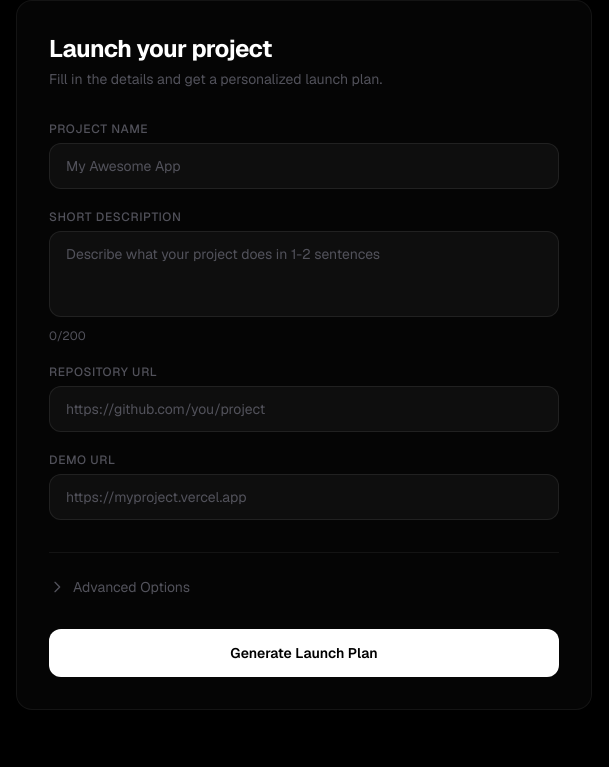
Test: ProjectForm › validates URL format for repo and demo URLs
This screenshot has width=609, height=767.
Type "Test" into the field labelled "Project Name". click: (304, 166)
box: [49,143,559,189]
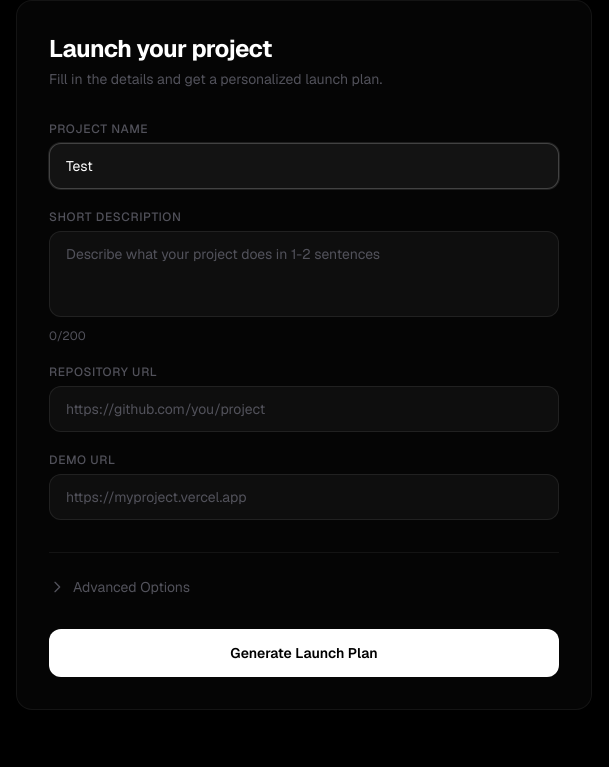
Type "A test project" into the text box labelled "Short Description". click: (304, 274)
box: [49,231,559,317]
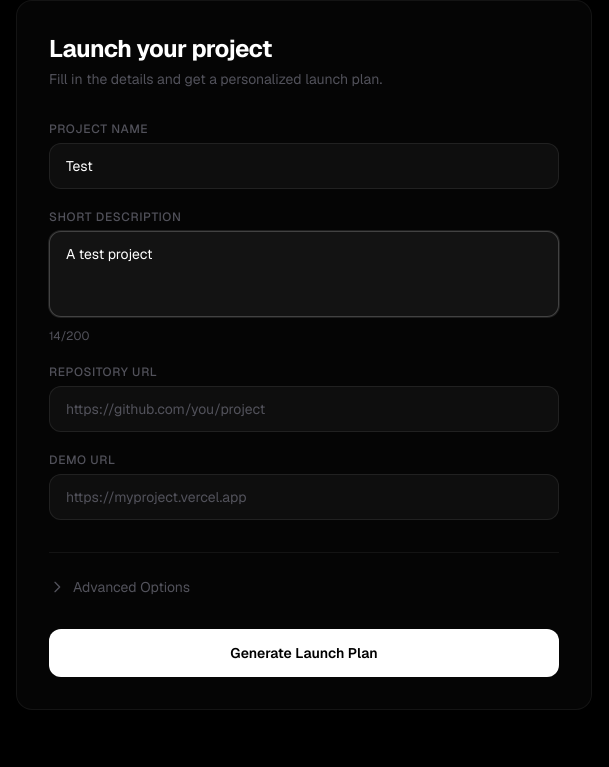
Type "http://github.com/test" into the field labelled "Repository URL". click: (304, 409)
box: [49,386,559,432]
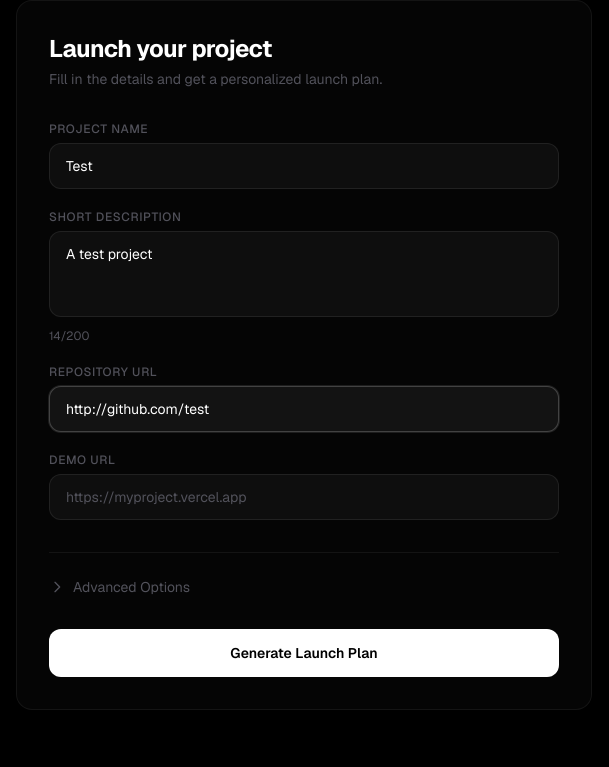
Type "ftp://example.com" into the field labelled "Demo URL". click: (304, 497)
box: [49,474,559,520]
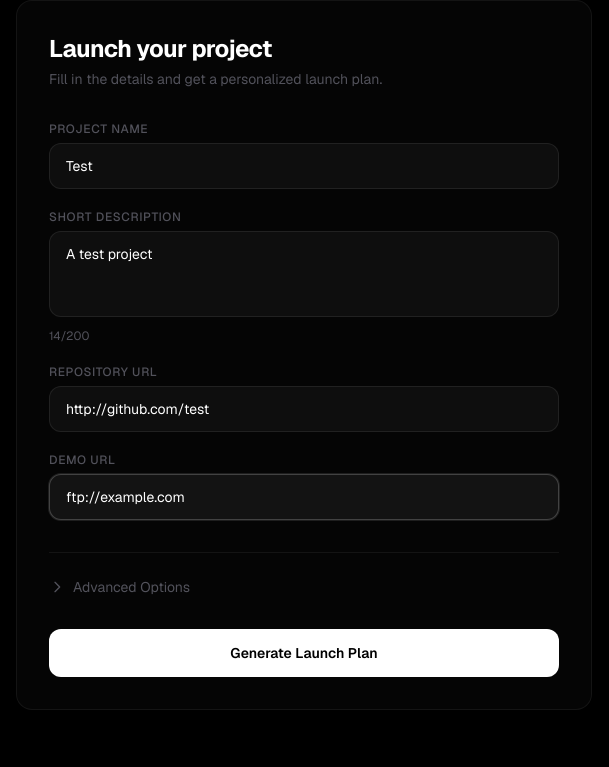
Click the button "Generate Launch Plan". click: (304, 653)
box: [49,629,559,677]
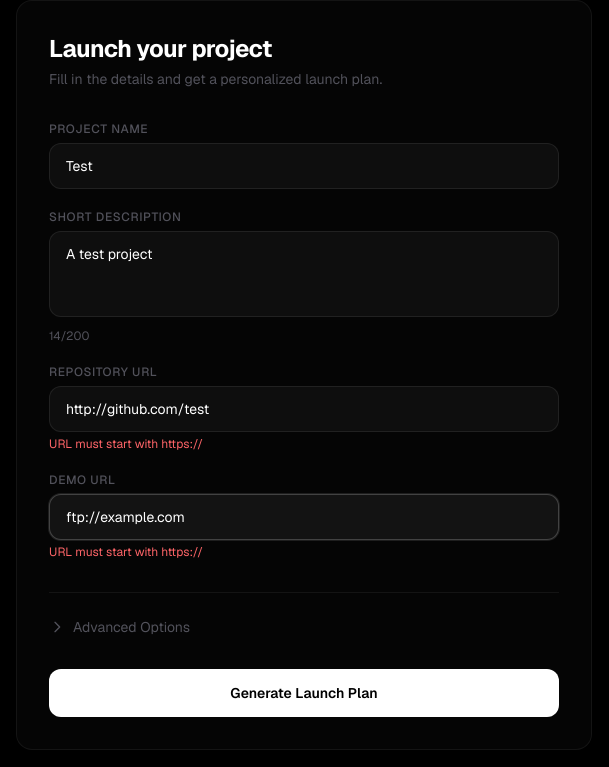
Now the text "URL must start with https://" is shown 2 times, box [49,436,203,452]; [49,544,203,560]
